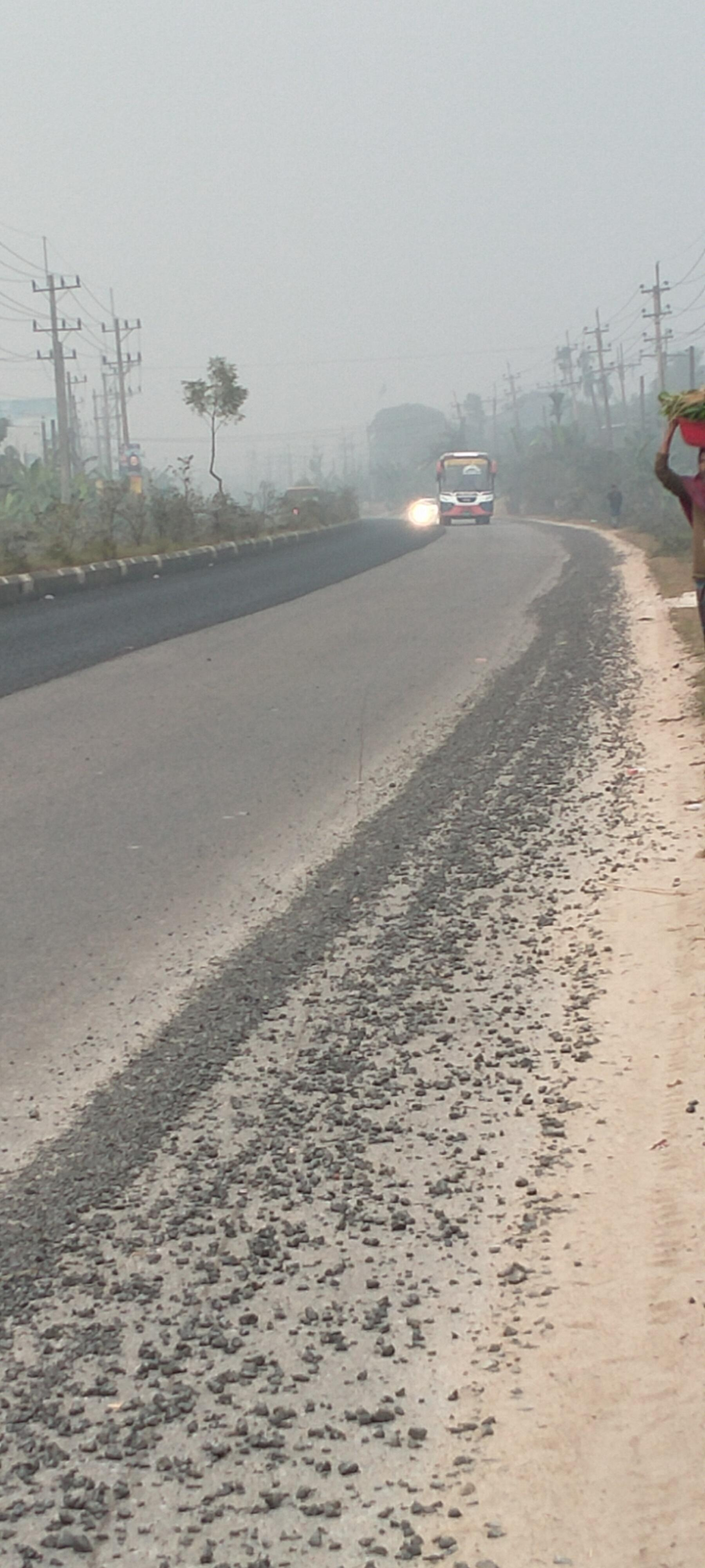Bus: (436, 441, 512, 554)
